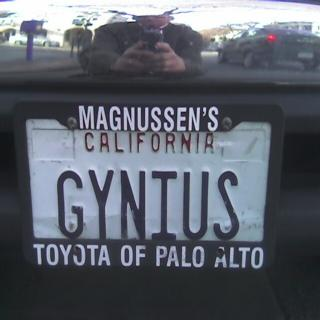license: (13, 99, 286, 274)
